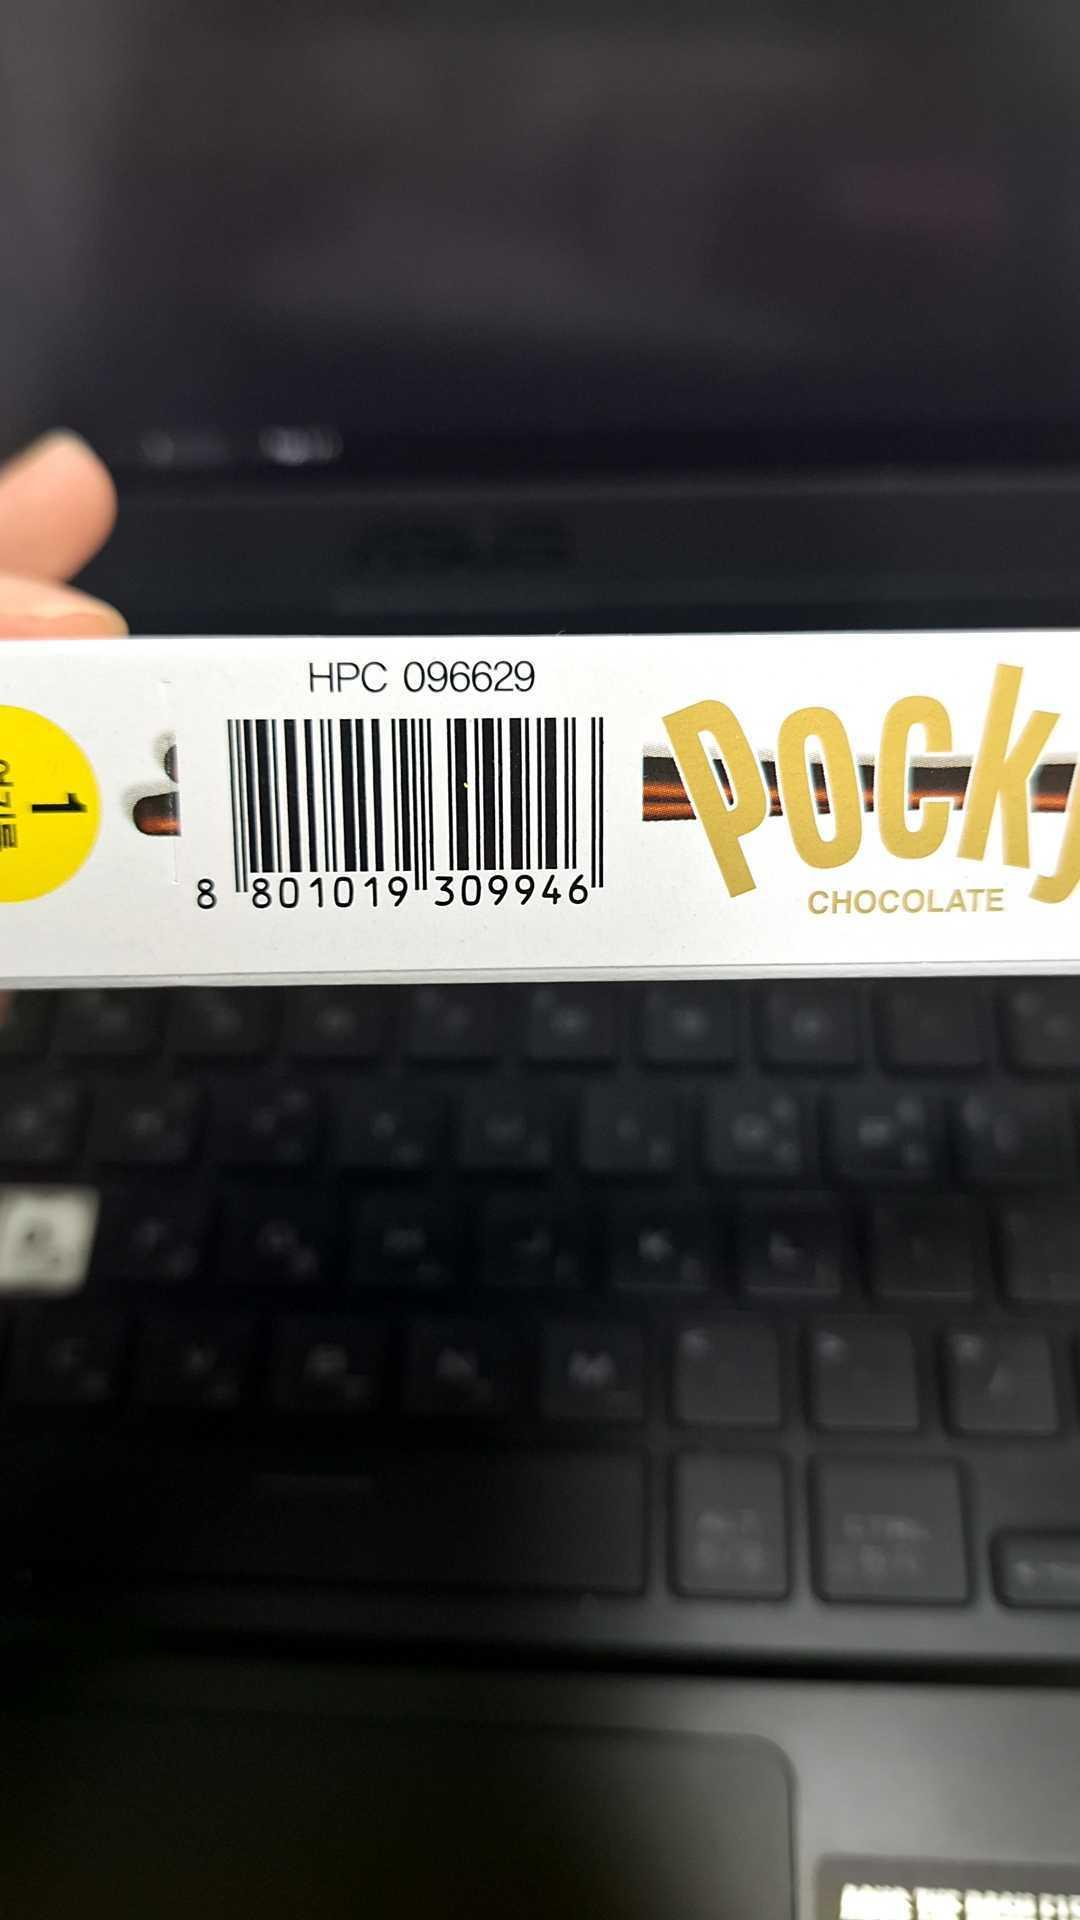whitepocky-1800-2025-8-10: (187, 698, 611, 920)
